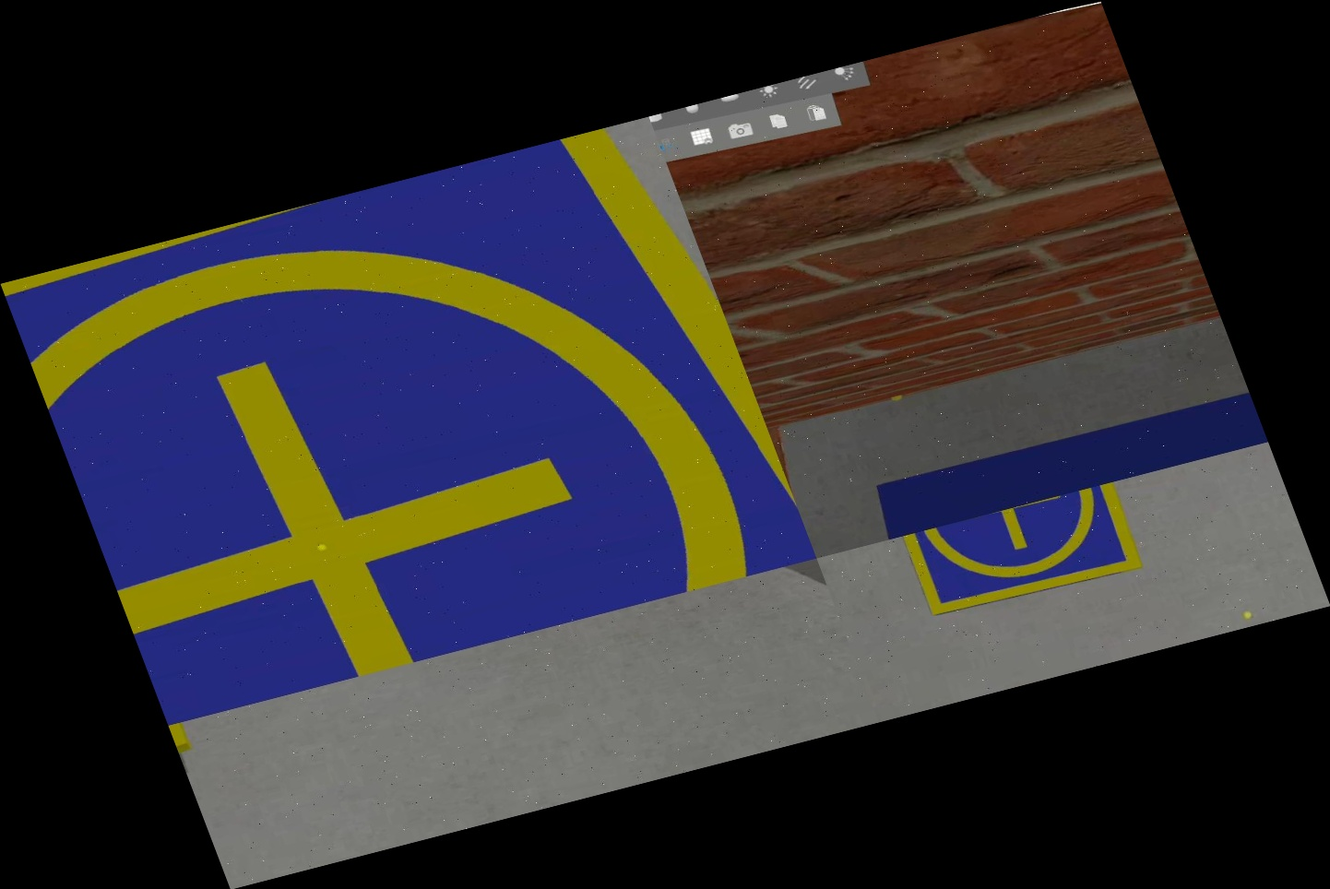small_base: (1, 116, 816, 725), (893, 480, 1154, 627)
